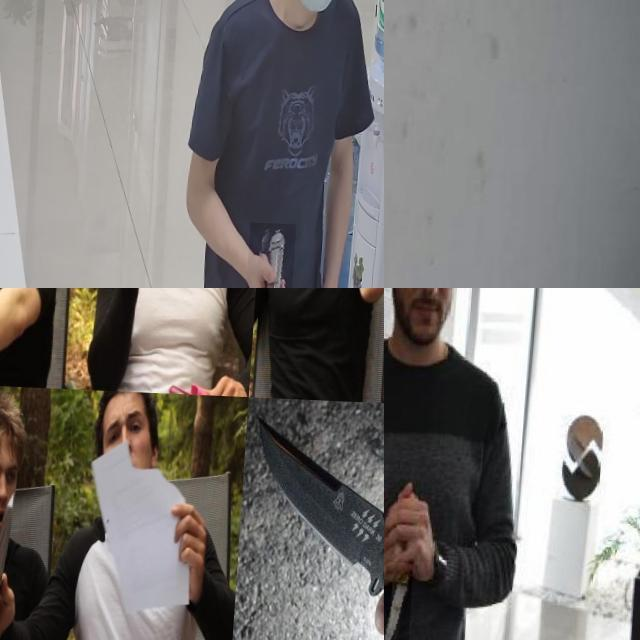-: (245, 404, 384, 624), (384, 0, 472, 288), (106, 288, 184, 347), (0, 485, 24, 637), (386, 558, 419, 640)
gun-knife-thesis - v11 Yolov5 augmented: (250, 219, 303, 288)
